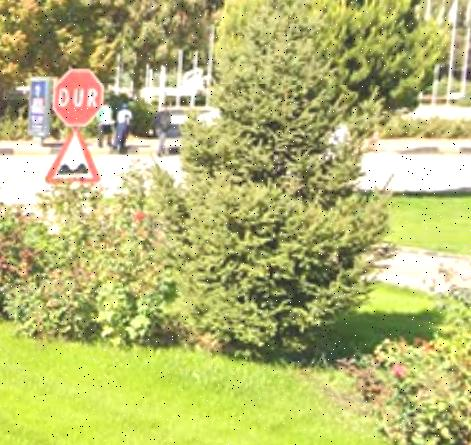stop: (53, 70, 106, 127)
